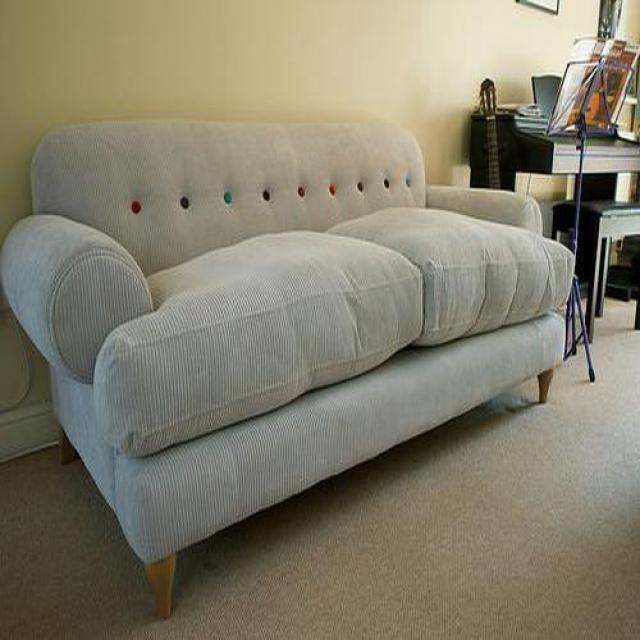sofa: (0, 119, 576, 599)
